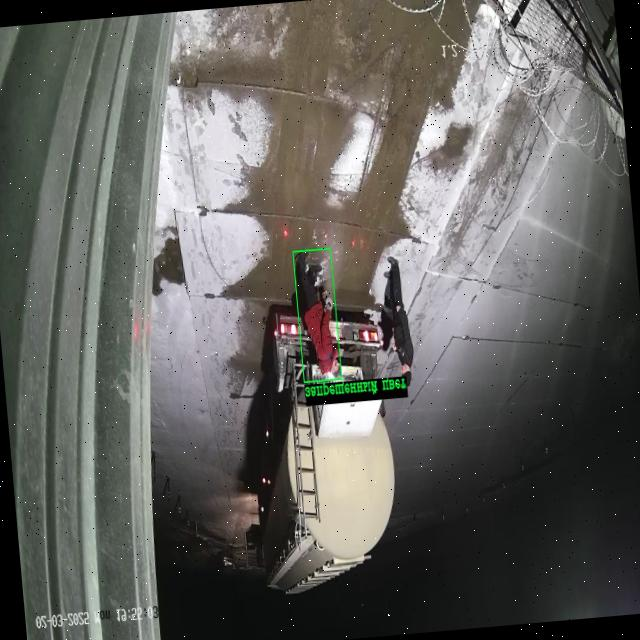Person: (387, 257, 413, 386)
Red uniform: (294, 252, 338, 374)
